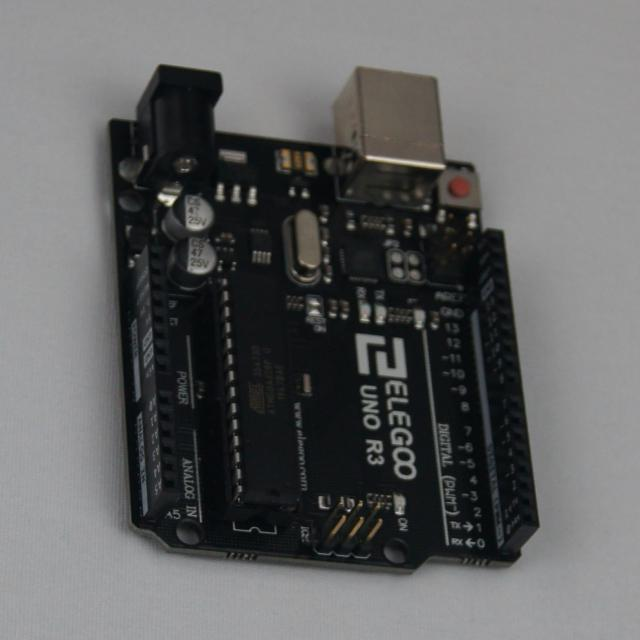Arduino Uno -Black-: (109, 67, 539, 571)
